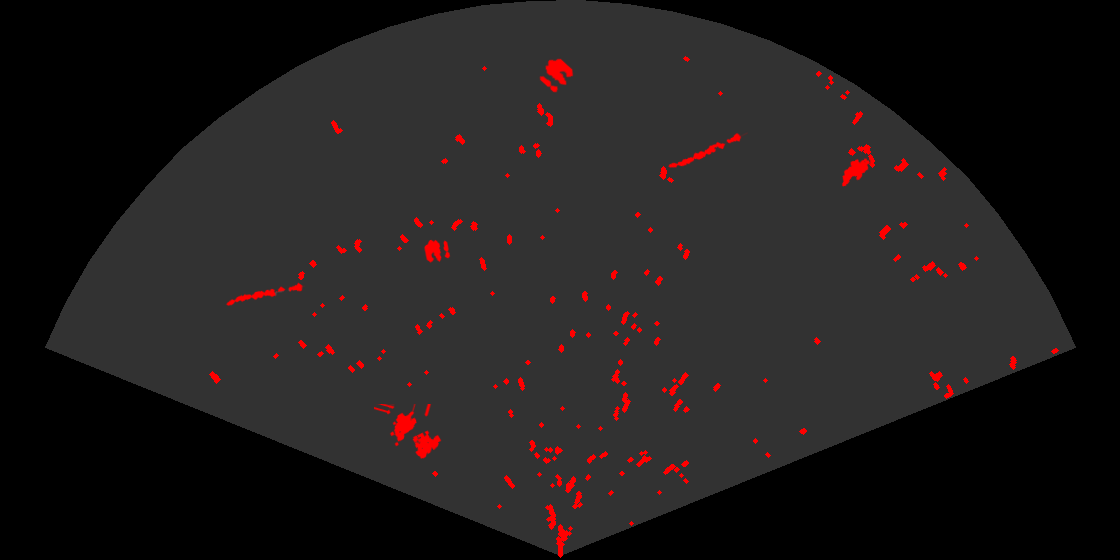AUV: (840, 157, 871, 188)
ball: (538, 57, 575, 94), (423, 238, 452, 265)
cage: (374, 404, 443, 460)
chain: (666, 131, 748, 170), (224, 281, 305, 307)
